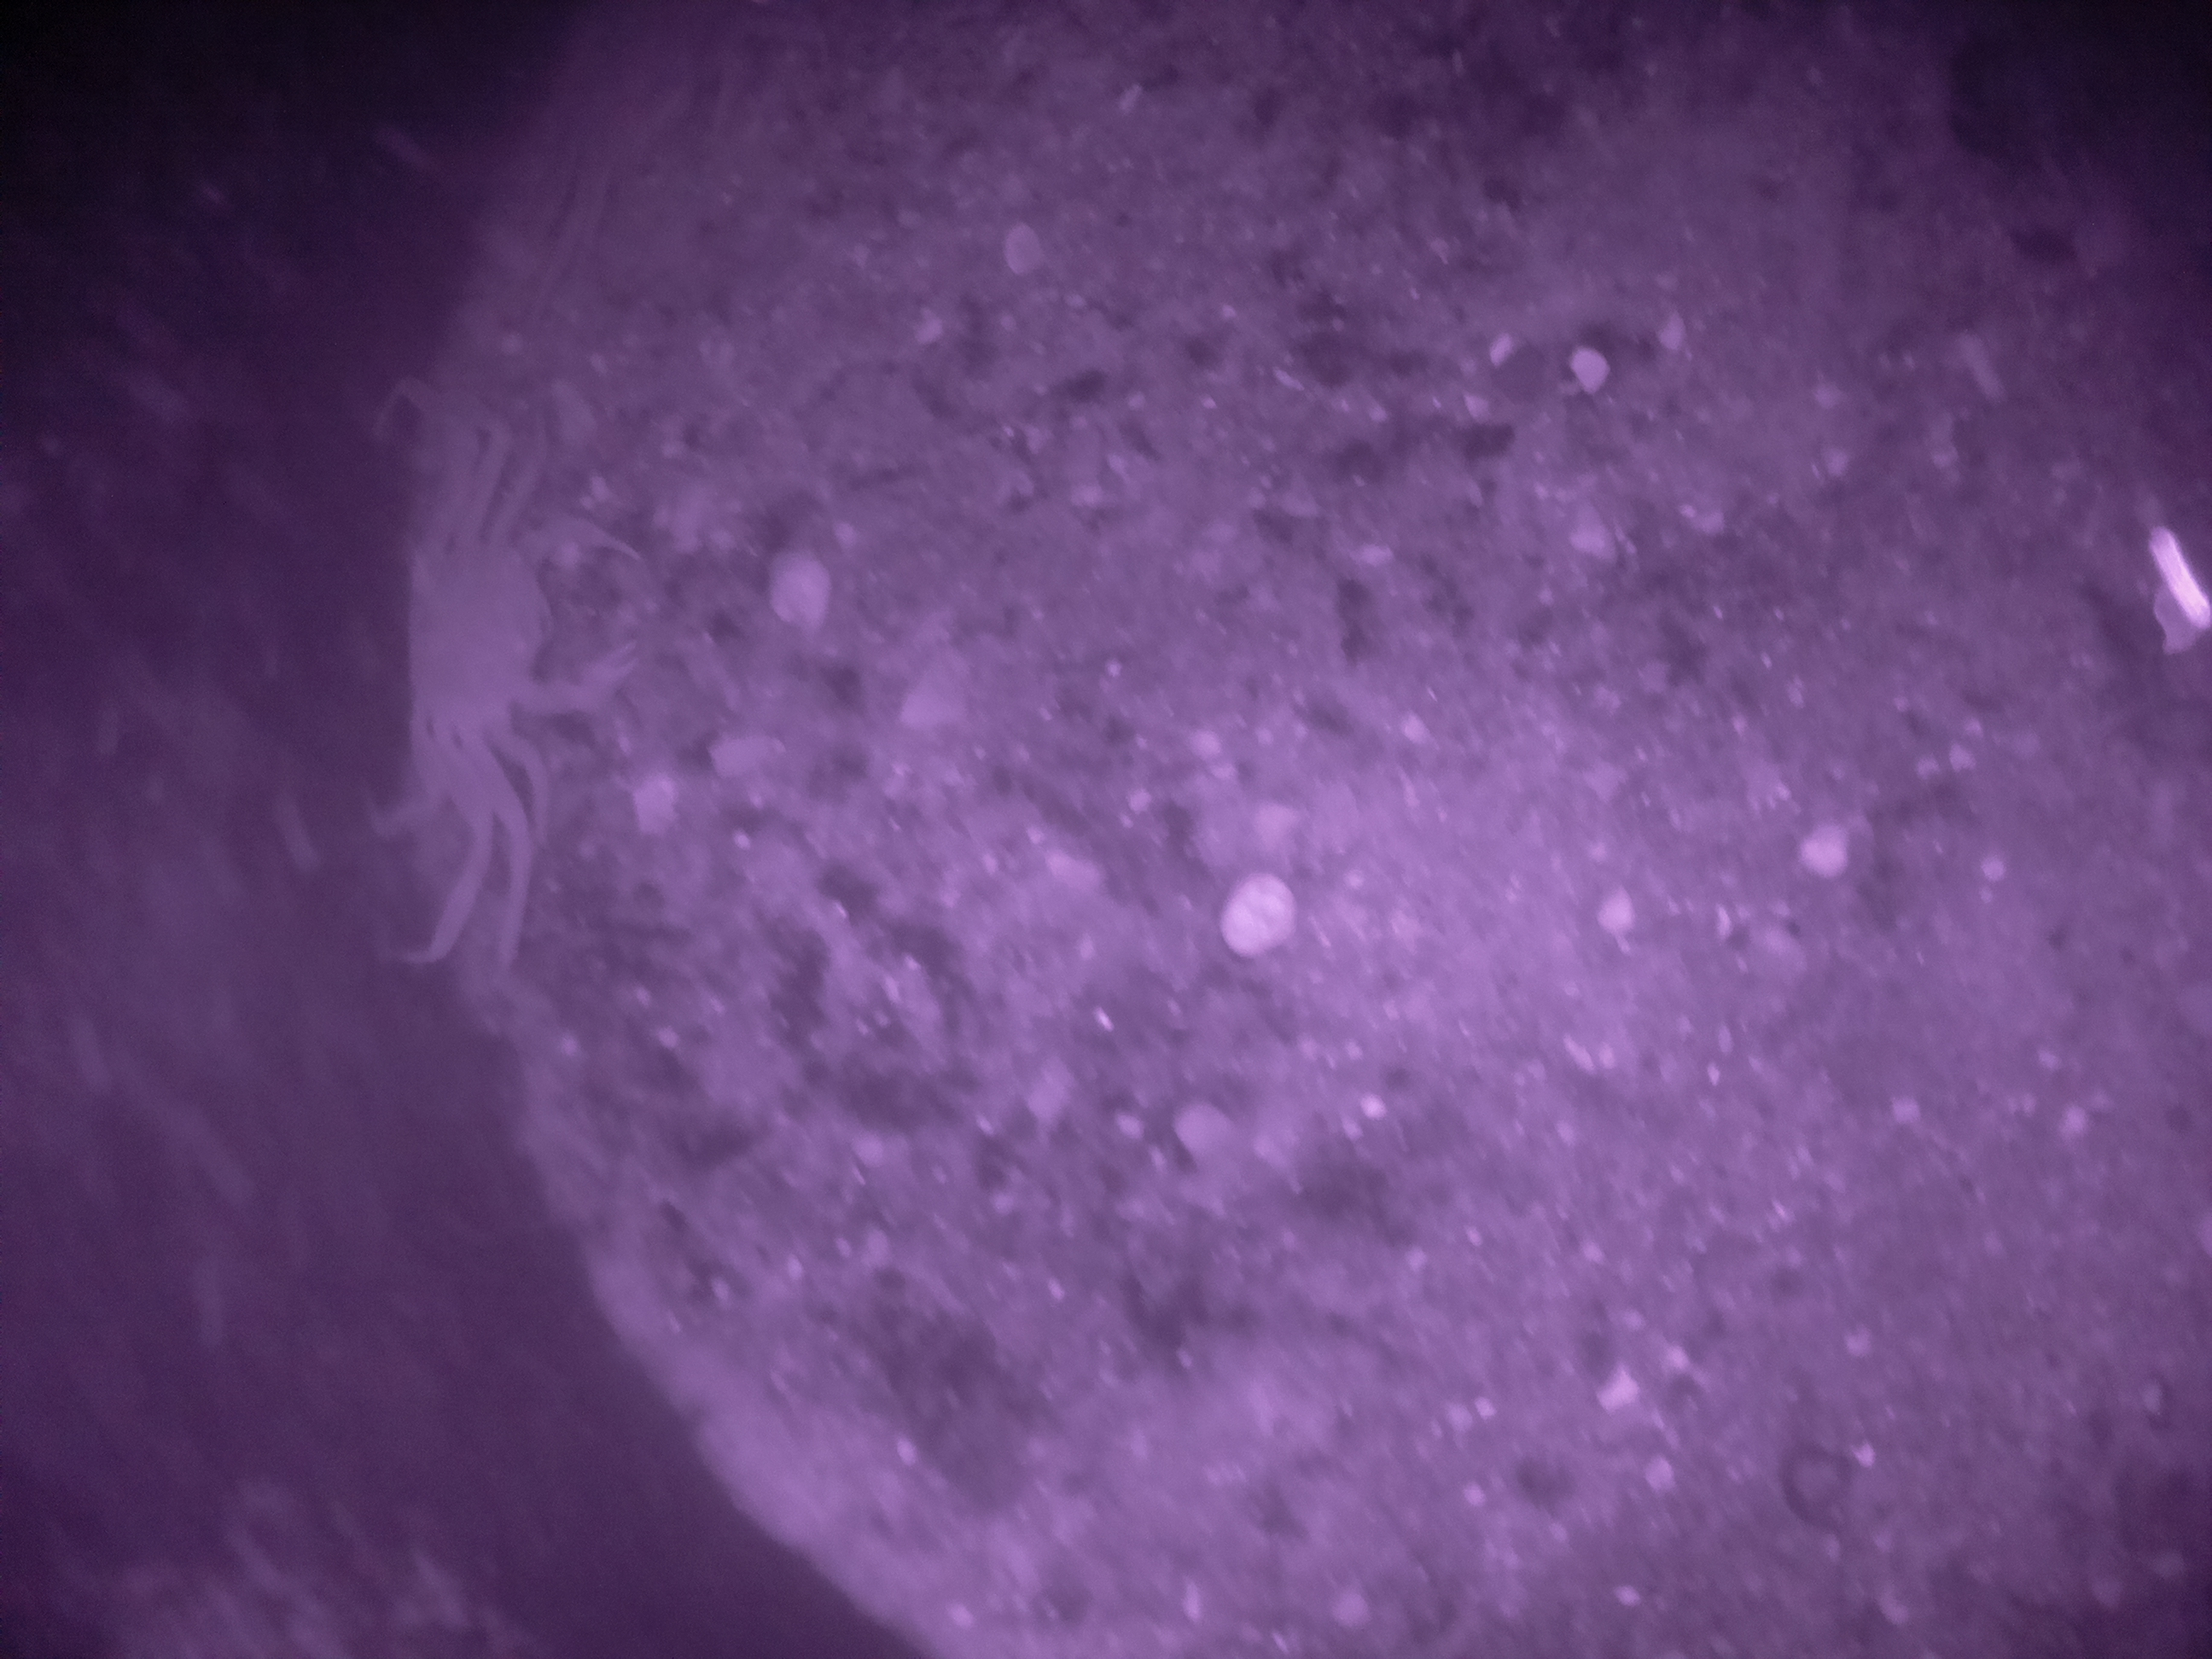Crab: (315, 460, 705, 894)
